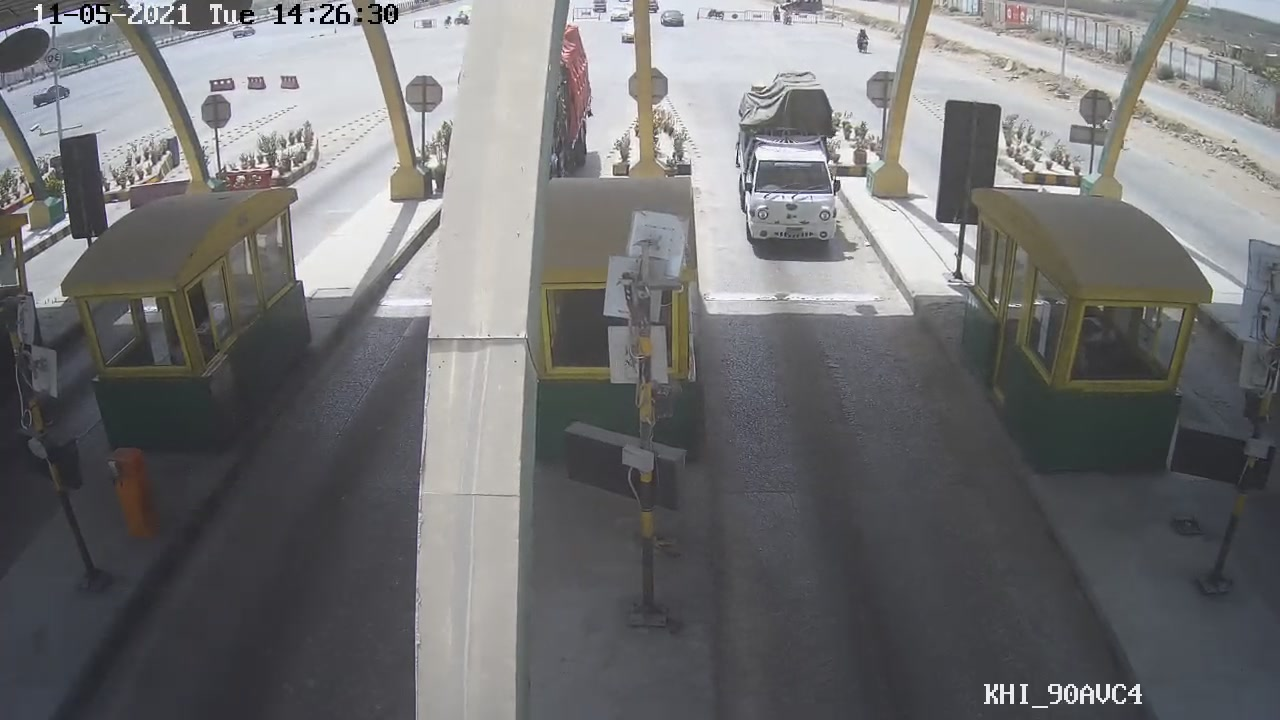F2: (732, 71, 856, 268)
